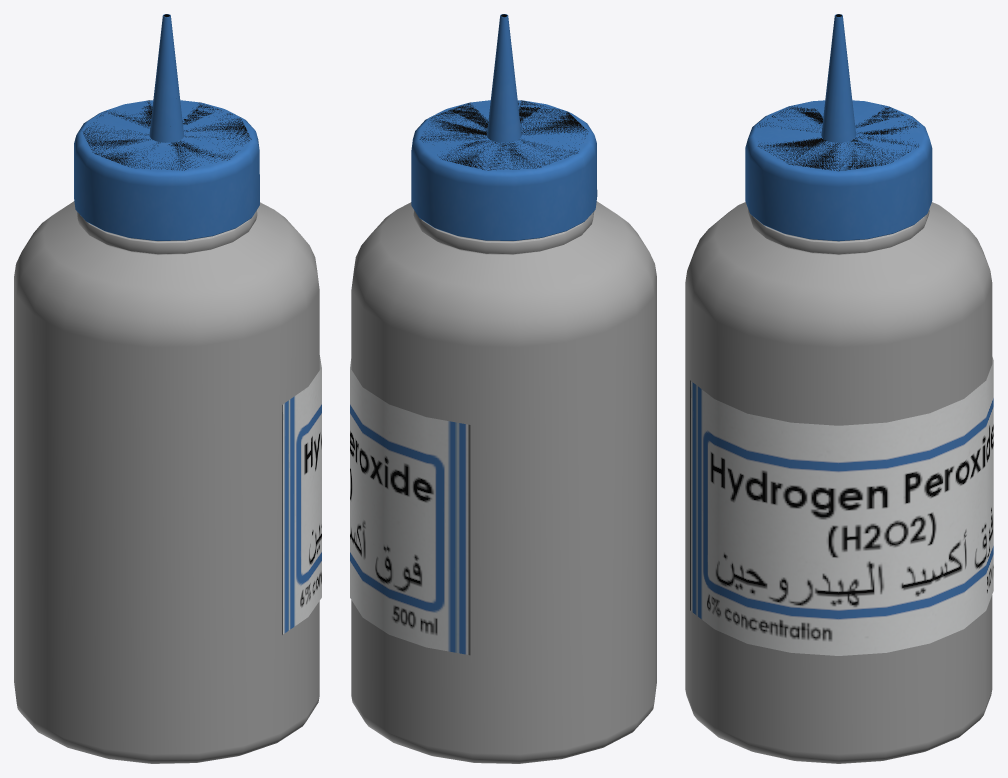
The model's file is Squizzy_Bottle.fbx.
The picture shows the model from 3 angles, left to right: view 1: azimuth 30°, elevation 25°; view 2: azimuth 150°, elevation 25°; view 3: azimuth 270°, elevation 25°; orthographic projection.
Visible parts, largest first — view 1: Squizzy_Bottle_LOD0, Squizzy_Cap_LOD0, H2o2_Label, Squizzy_Cap_Colldr; view 2: Squizzy_Bottle_LOD0, H2o2_Label, Squizzy_Cap_LOD0, Squizzy_Cap_Colldr; view 3: Squizzy_Bottle_LOD0, H2o2_Label, Squizzy_Cap_LOD0, Squizzy_Cap_Colldr.
Part boxes in pixels (x1,y1,x2,y2): Squizzy_Bottle_LOD0: (14, 201, 319, 763); Squizzy_Cap_LOD0: (74, 14, 259, 240); H2o2_Label: (282, 355, 321, 634); Squizzy_Cap_Colldr: (83, 14, 251, 170); Squizzy_Bottle_LOD0: (351, 201, 656, 763); H2o2_Label: (350, 359, 470, 655); Squizzy_Cap_LOD0: (411, 14, 597, 240); Squizzy_Cap_Colldr: (419, 14, 588, 170); Squizzy_Bottle_LOD0: (685, 202, 992, 763); H2o2_Label: (690, 357, 993, 655); Squizzy_Cap_LOD0: (745, 14, 932, 241); Squizzy_Cap_Colldr: (757, 14, 919, 171).
Size of what is drawn, in the model's own units: 7.05 by 17.38 by 7.05.
Materials: 2 (1 with a texture image).
